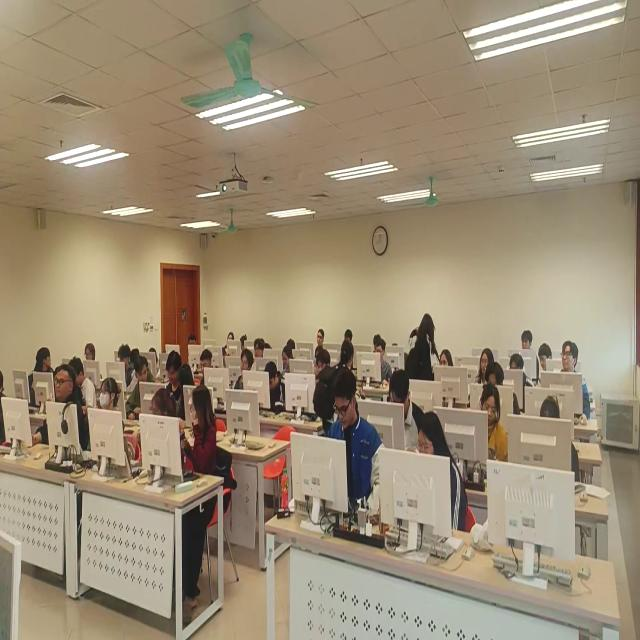raise_head: (32, 366, 90, 450), (474, 386, 509, 464), (562, 339, 591, 421), (98, 379, 122, 420), (234, 350, 255, 393), (475, 348, 495, 385), (1, 369, 9, 445), (224, 332, 236, 357), (439, 348, 454, 367), (521, 331, 535, 350), (255, 337, 266, 361), (188, 335, 199, 359), (317, 329, 325, 348)
stand: (314, 341, 356, 439), (407, 313, 439, 381)
using_computer: (331, 368, 386, 516), (418, 412, 469, 534), (540, 397, 581, 481), (390, 370, 425, 452), (487, 361, 523, 414), (506, 354, 534, 412), (265, 361, 287, 414), (166, 349, 185, 409), (373, 341, 391, 393), (179, 363, 196, 409), (151, 388, 178, 416), (200, 349, 213, 389), (282, 345, 294, 377), (120, 344, 133, 368), (150, 348, 161, 366), (374, 333, 383, 350), (345, 329, 354, 345), (287, 337, 296, 352)
